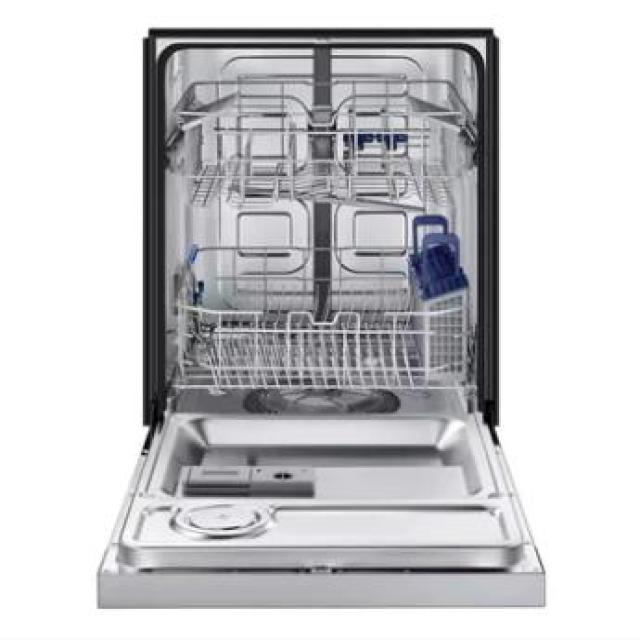dishwasher: (137, 24, 549, 620)
